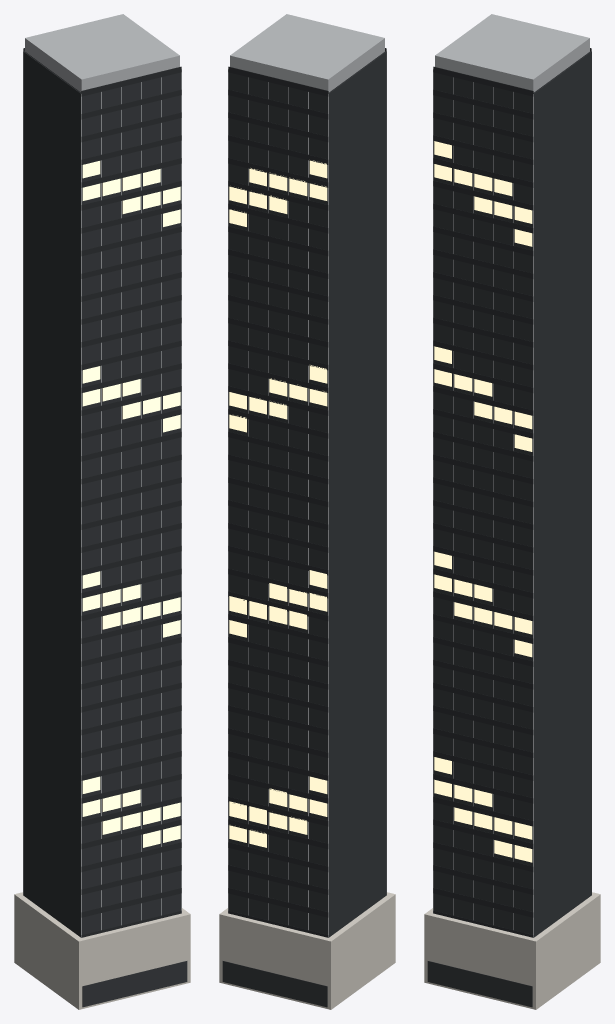
File: tower_twin_a_40.glb
3 views of the same model, side by side, from view 1: azimuth 30°, elevation 25°; view 2: azimuth 150°, elevation 25°; view 3: azimuth 330°, elevation 25° (orthographic).
Parts seen in each view (by area): view 1: tower_twin_a_40; view 2: tower_twin_a_40; view 3: tower_twin_a_40.
Part boxes in pixels (box(x1,y1,x2,y2)): tower_twin_a_40: box(14, 14, 190, 1009); tower_twin_a_40: box(219, 14, 395, 1009); tower_twin_a_40: box(424, 14, 600, 1009).
Size of the model in its own units: 19 by 150 by 19.14.
